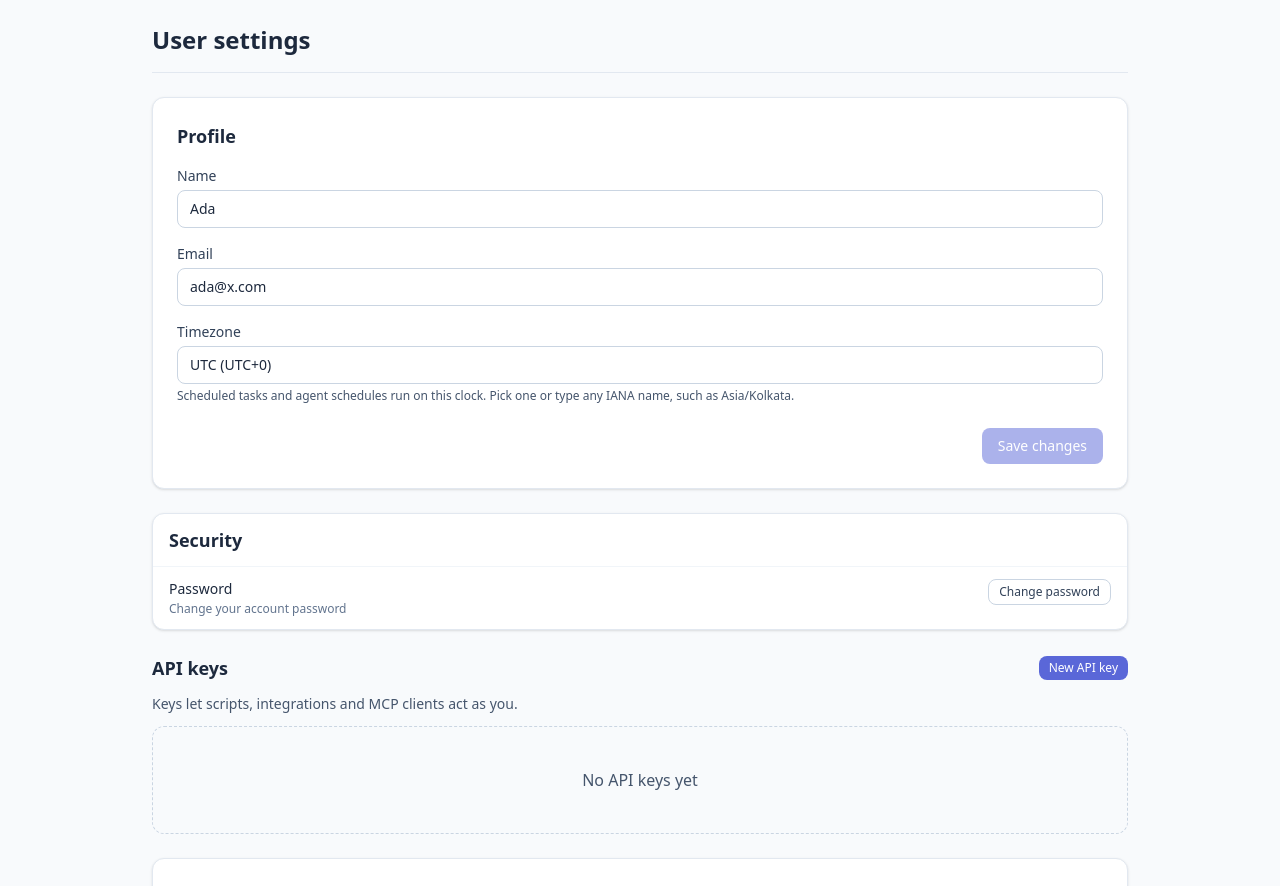
Test: UserSettings change password › surfaces a server error inside the password modal
Click the button "Change password" at (1050, 592), box [988, 579, 1111, 605]
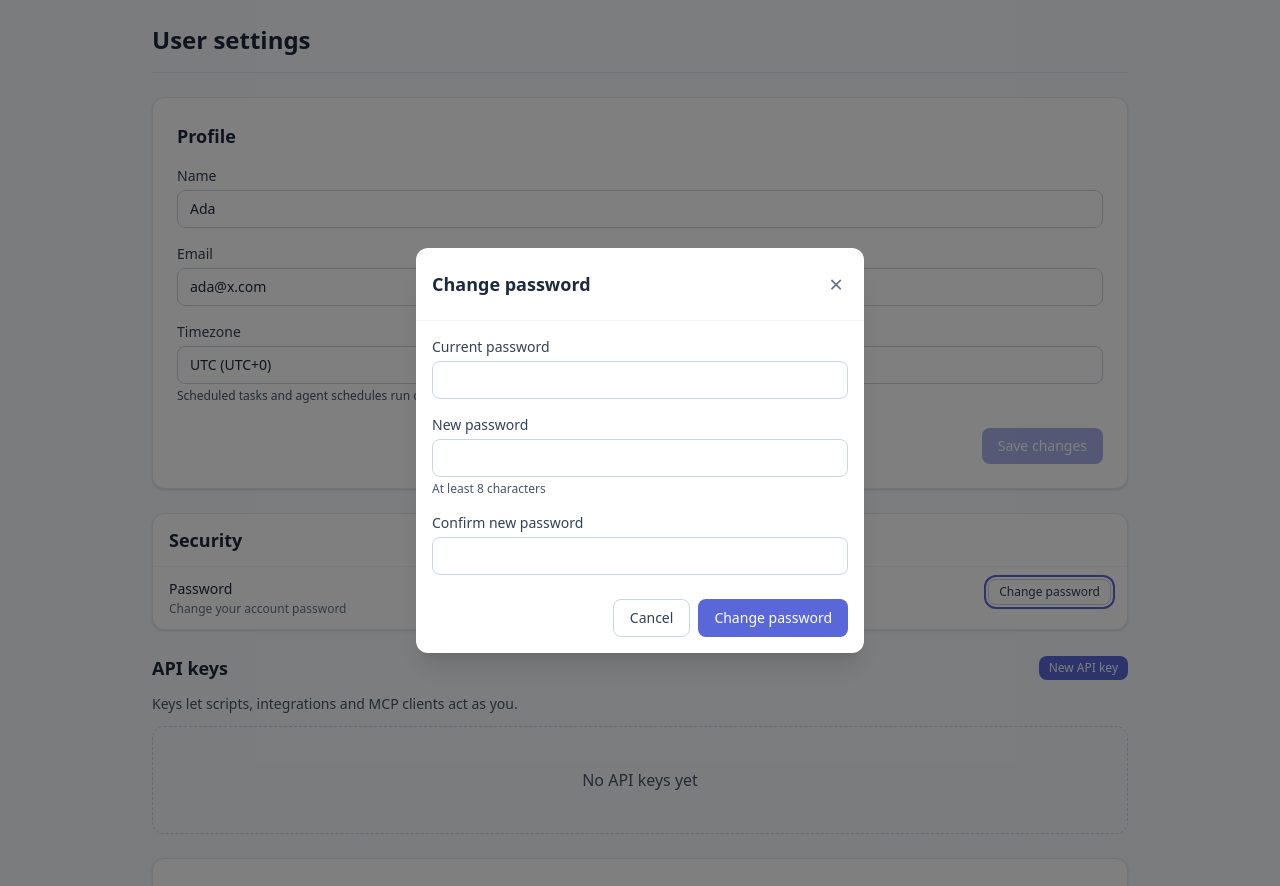
Type "oldpass12" into the password field labelled "Current password" at (640, 380), box [432, 360, 848, 398]
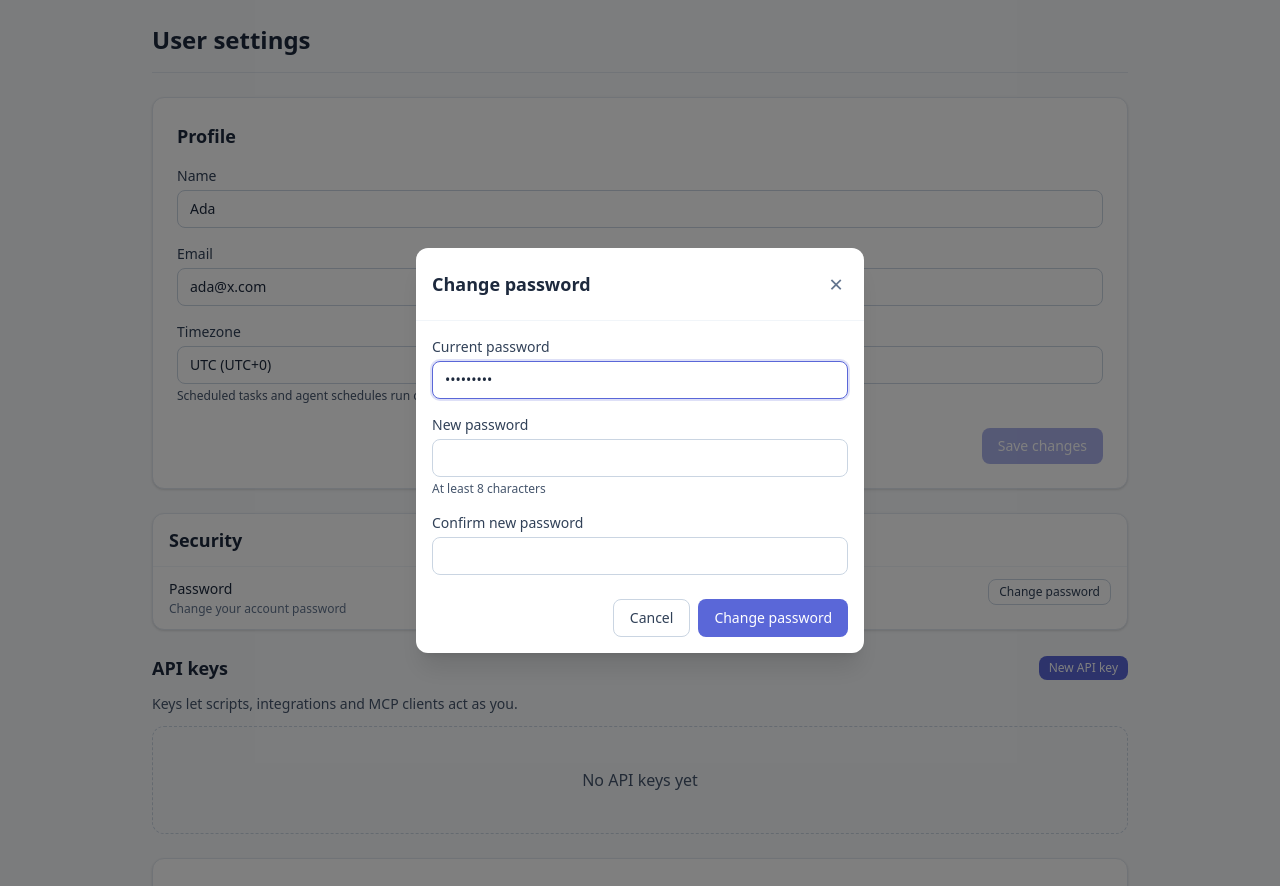
Type "newpass12" into the password field labelled "New password" at (640, 458), box [432, 438, 848, 476]
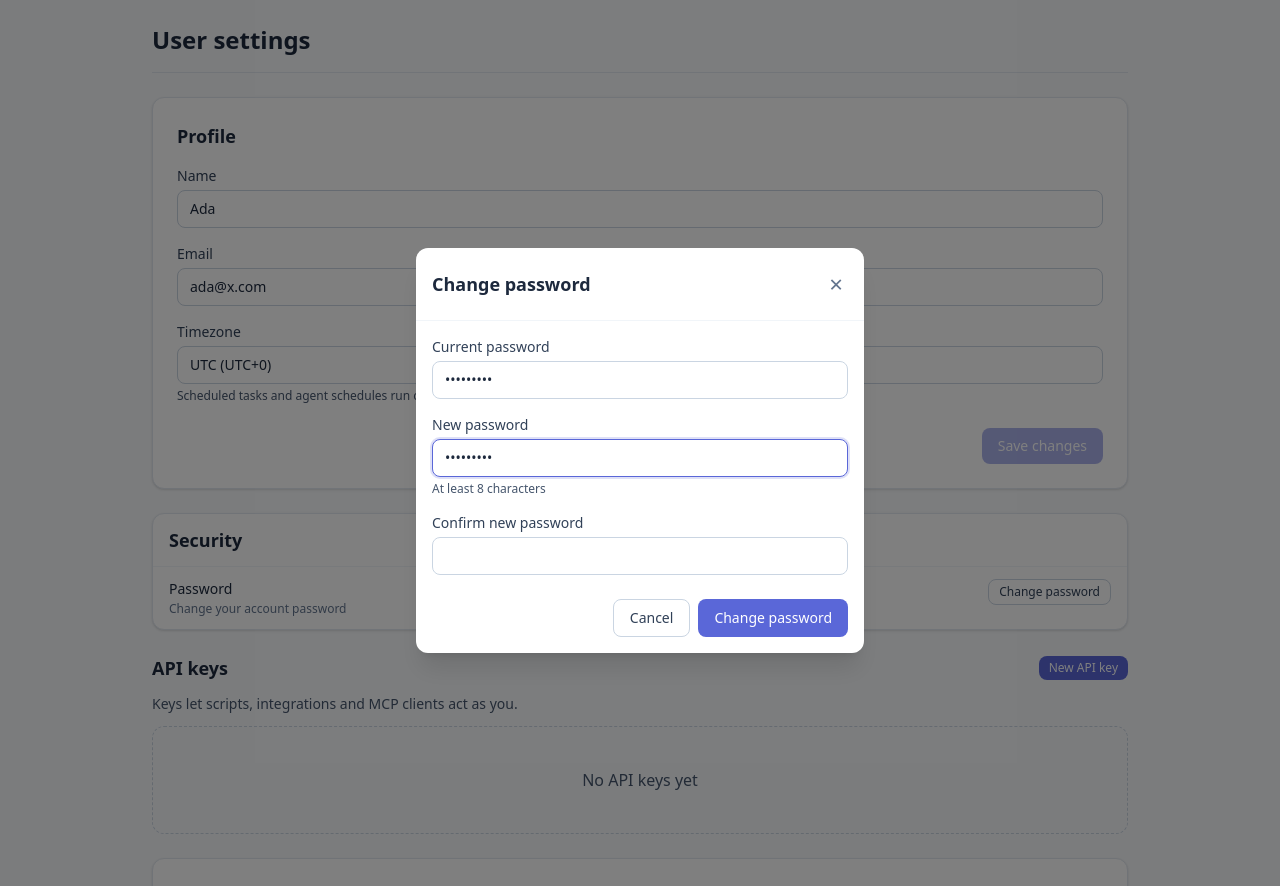
Type "newpass12" into the password field labelled "Confirm new password" at (640, 556), box [432, 536, 848, 574]
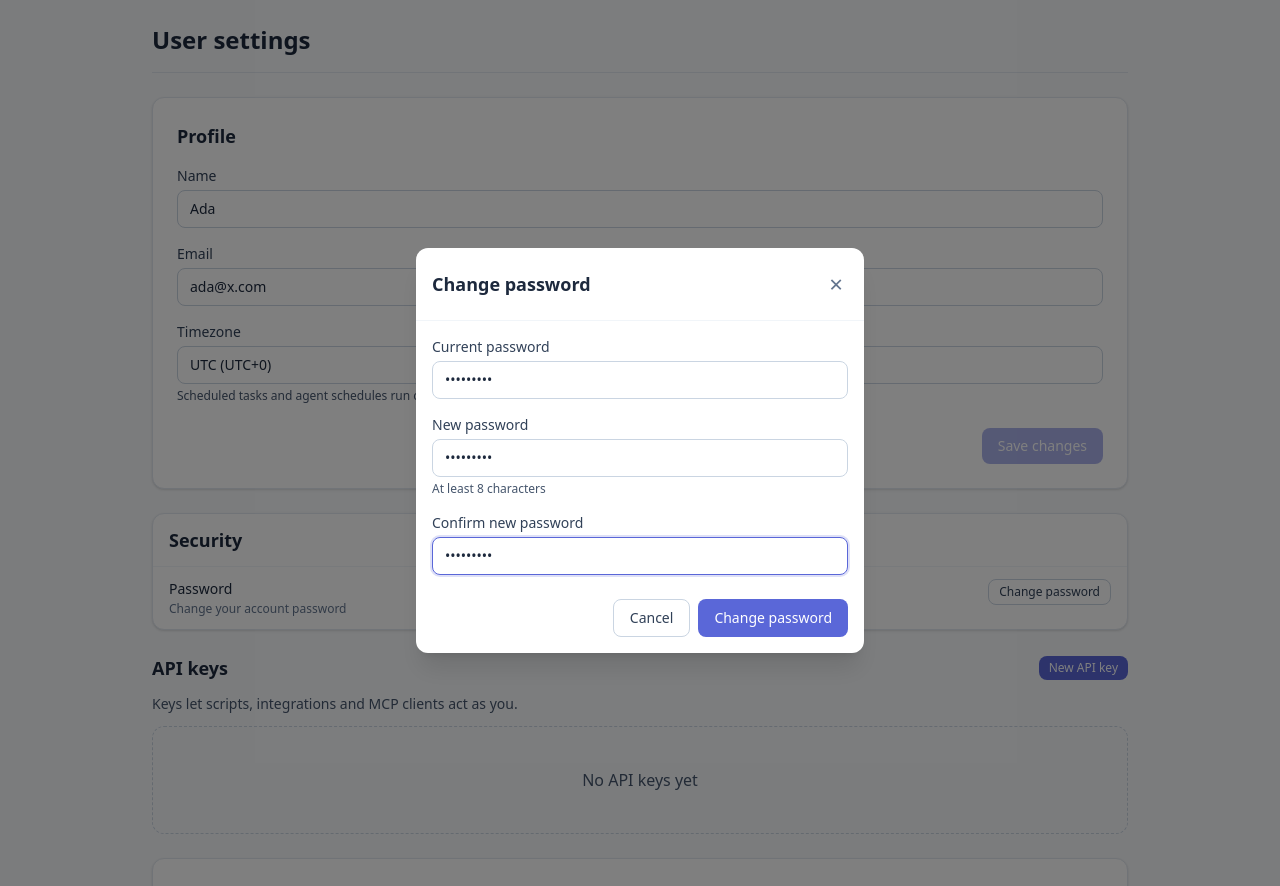
Click the button "Change password" at (773, 618), box [698, 598, 848, 636]
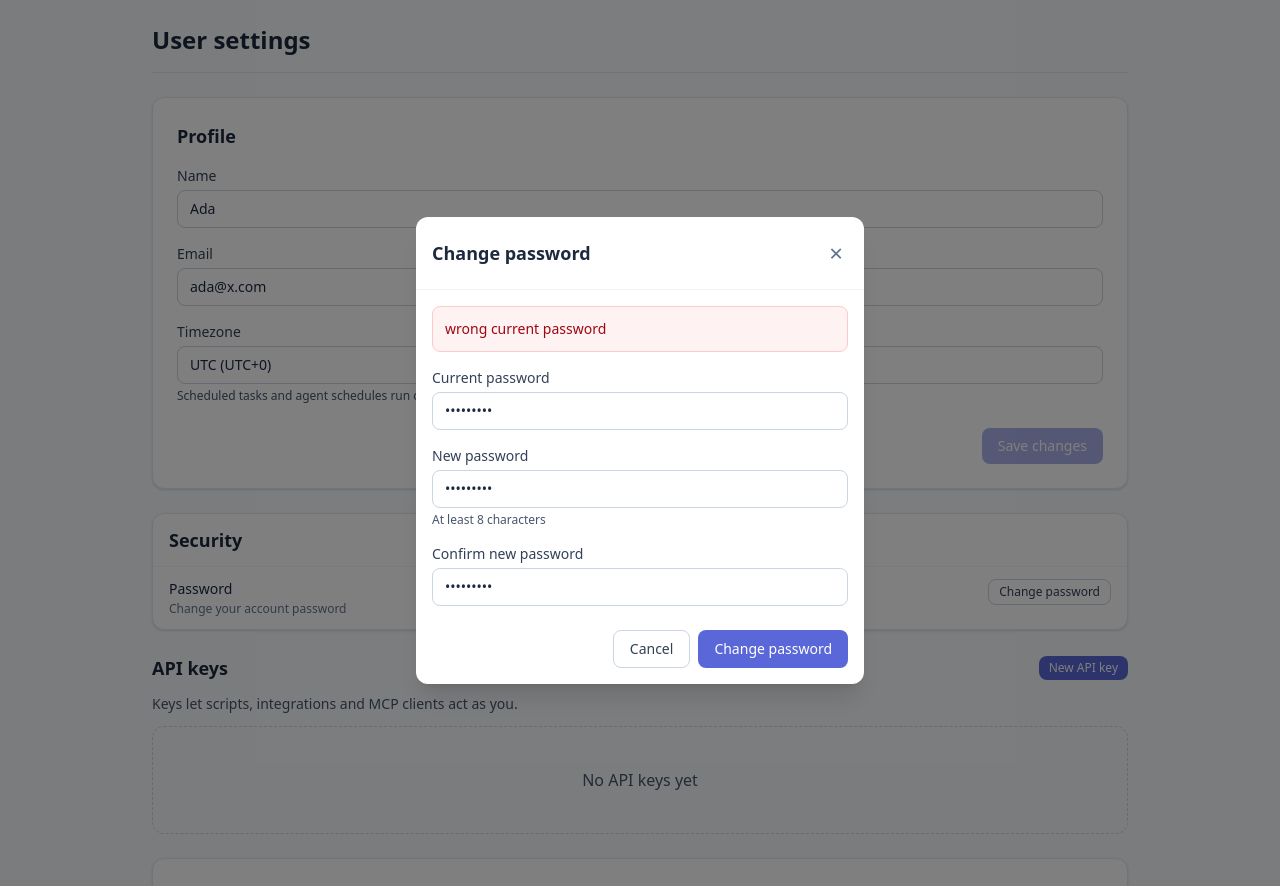
Check: the text "wrong current password" is shown, box [445, 318, 606, 338]
